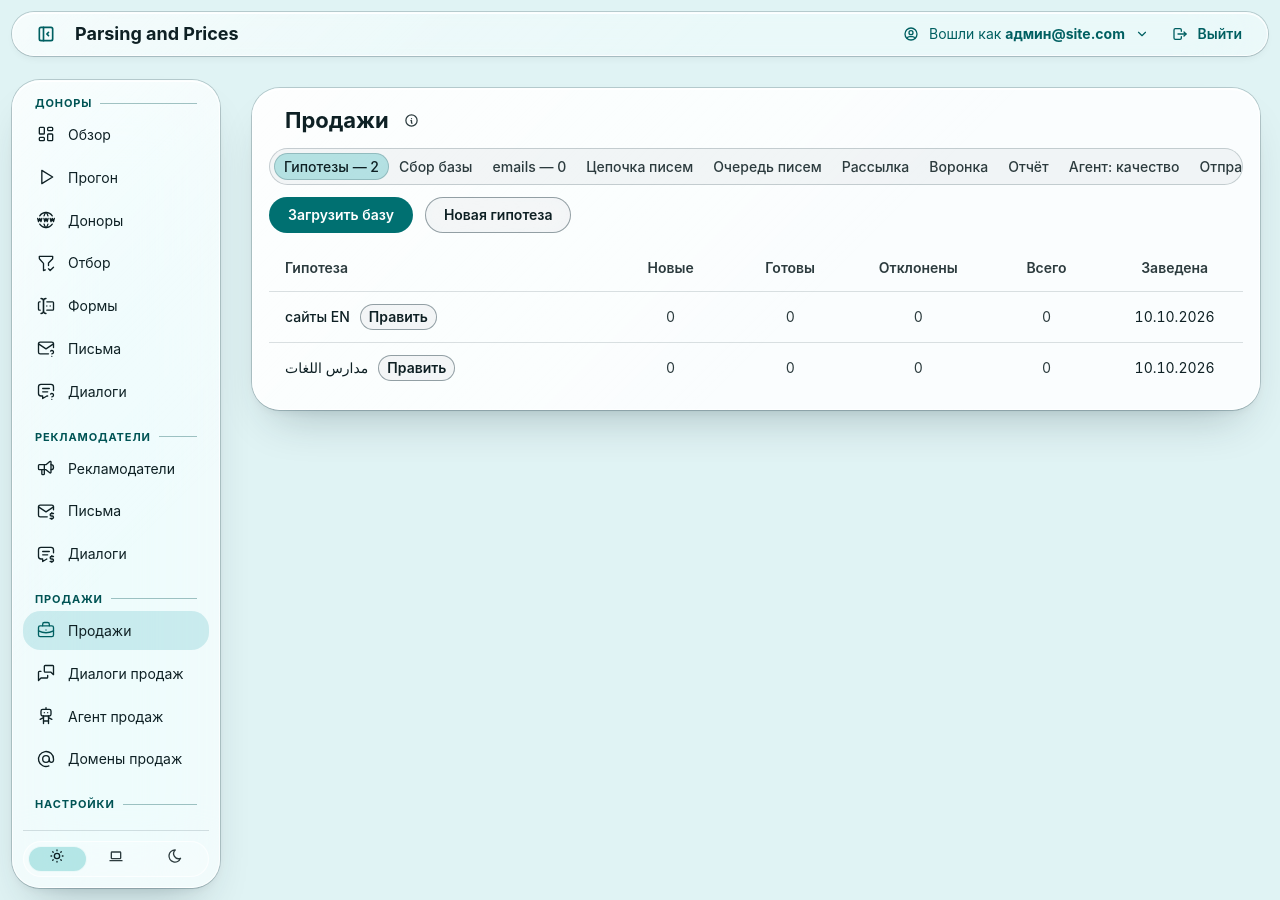
it: удаление гипотезы: только пустую › непустая — кнопка видна, но закрыта, под ней — что держит, словами сервера
Click the button with aria-label "Править гипотезу «сайты EN»" at (398, 317), box [360, 304, 437, 330]
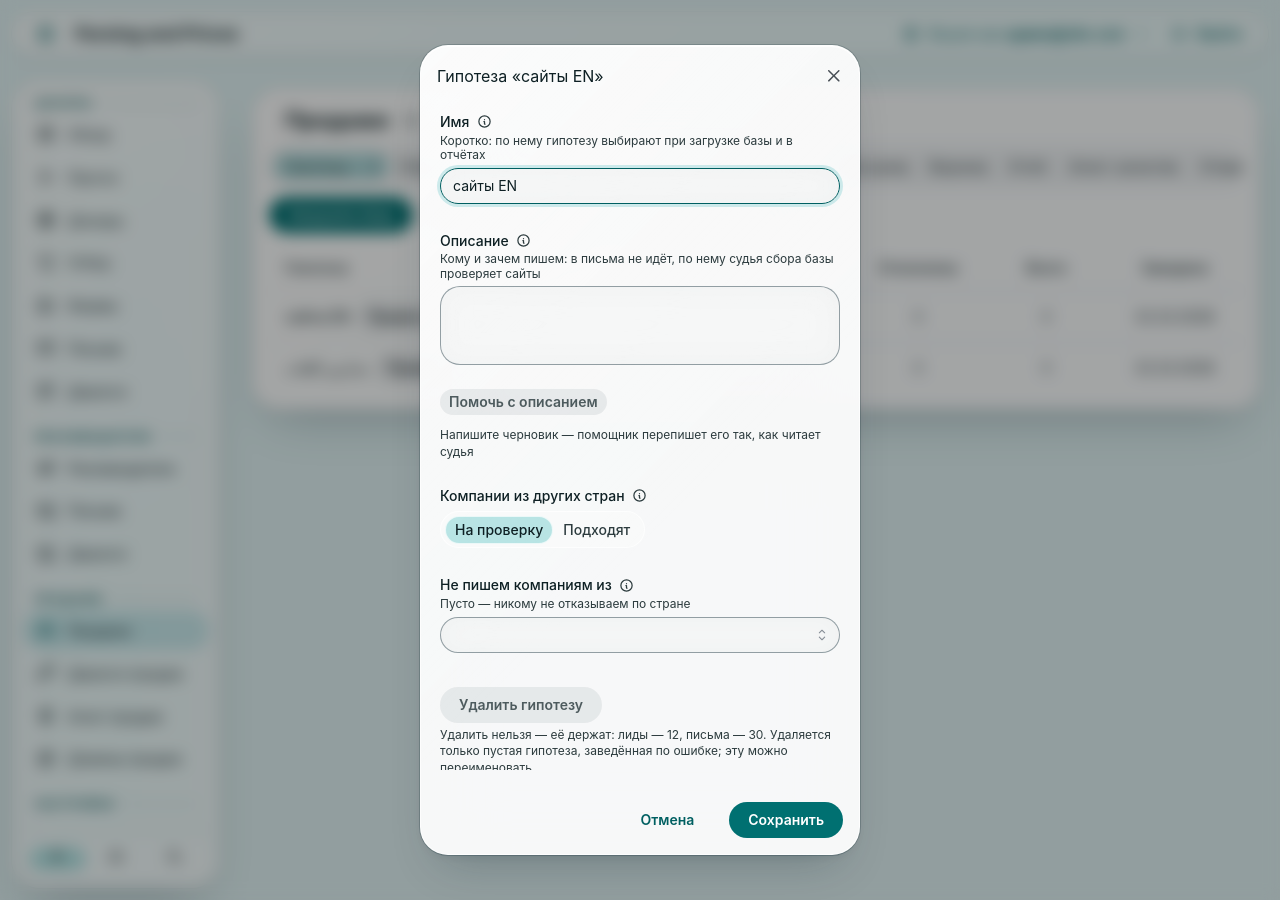
Expected: the button "Удалить гипотезу" is disabled, [440, 687, 602, 723]
